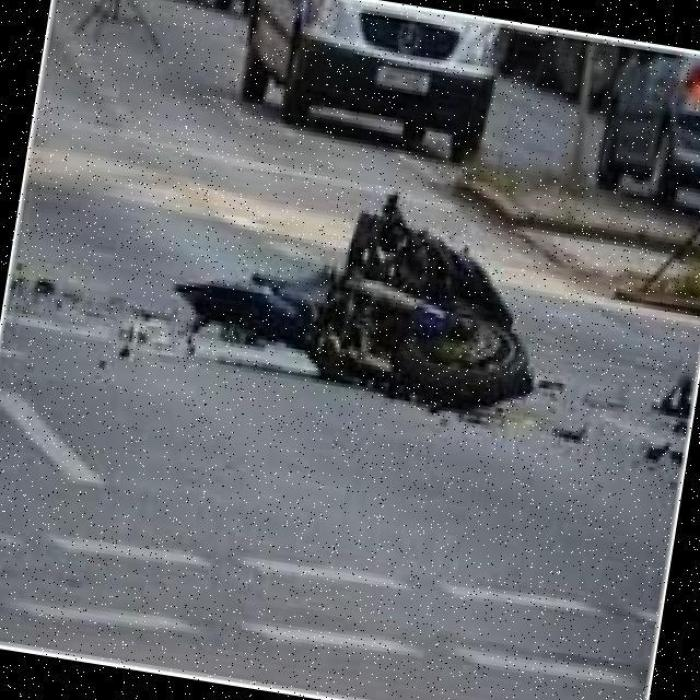Accident: (189, 145, 576, 476)
